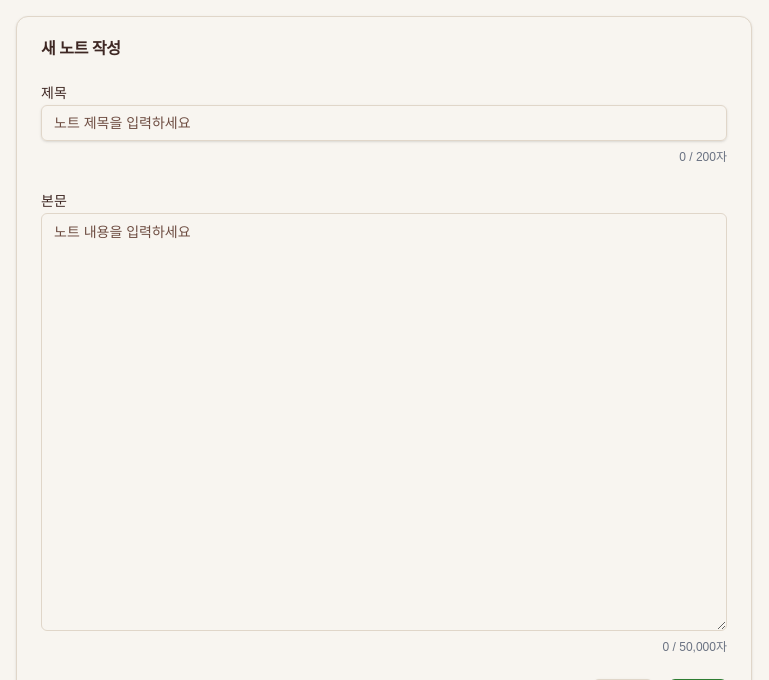
Test case: NewNoteForm › 제목 글자 수 카운터가 작동한다
Check: the text "0 / 200자" is shown, box x1=679 y1=150 x2=727 y2=164
Type "테스트 제목" into the field labelled "제목" at (384, 123), box x1=41 y1=105 x2=727 y2=141
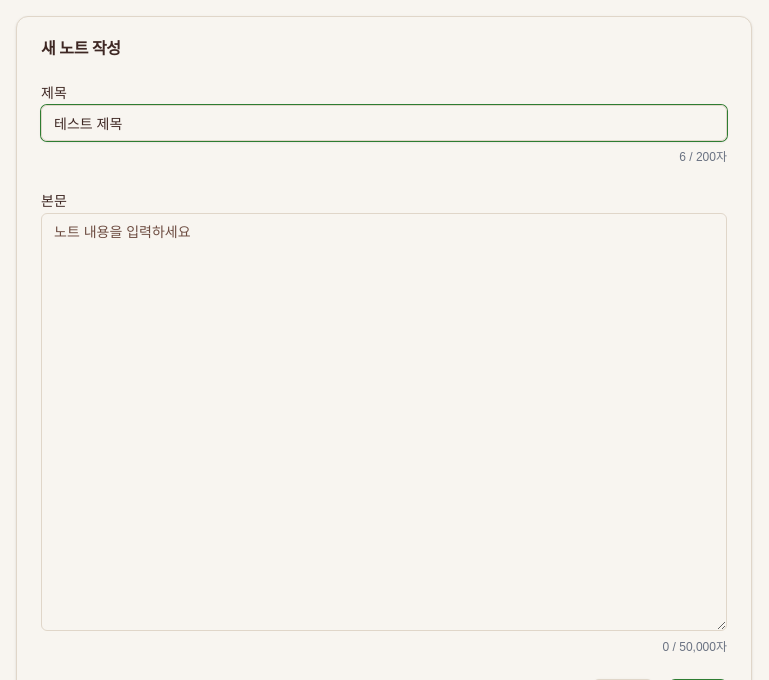
Check: the text "6 / 200자" is shown, box x1=679 y1=150 x2=727 y2=164
